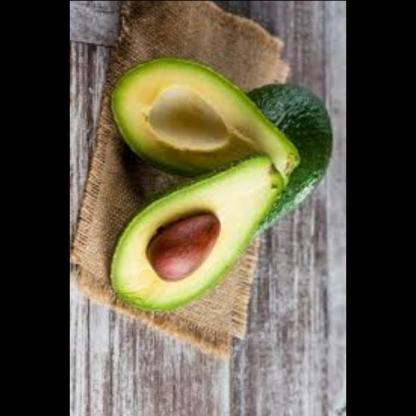avocado: (107, 147, 284, 316), (90, 56, 303, 182), (256, 82, 342, 223)
